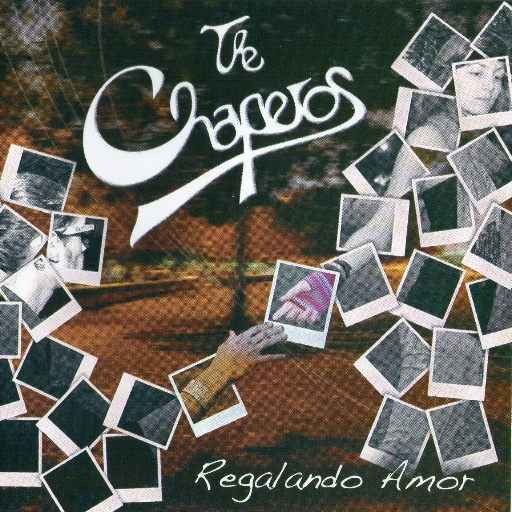hand: (177, 322, 281, 410), (268, 270, 331, 328)
